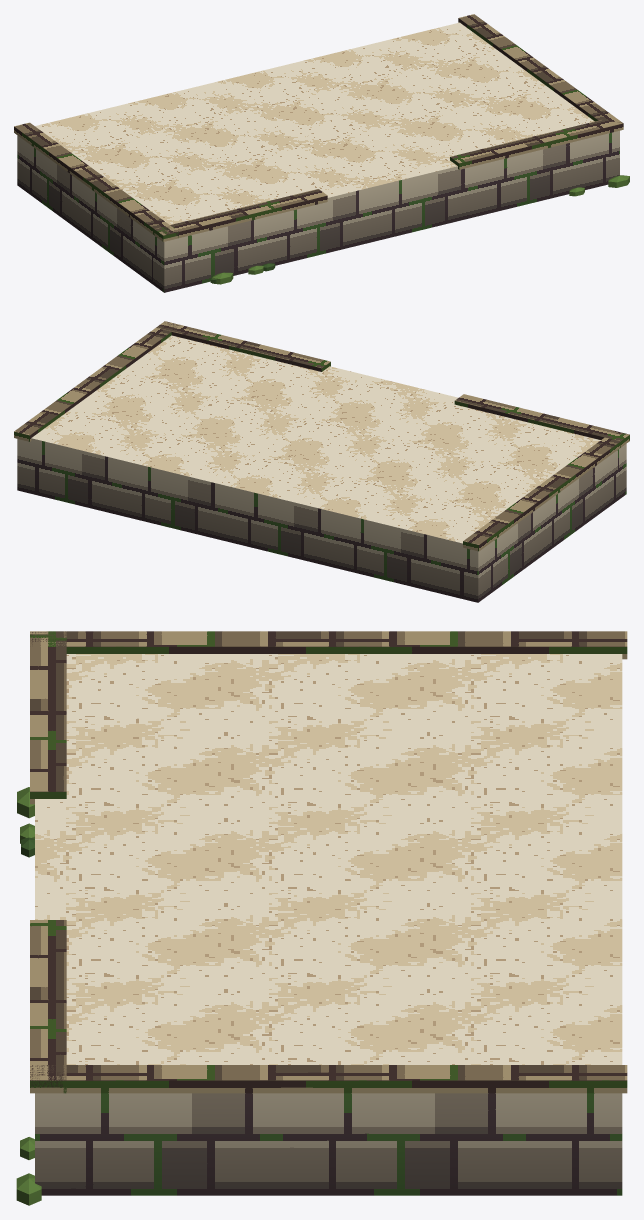
Rendered from scene_barrow_step.glb.
The picture shows the model from 3 angles, top to bottom: view 1: azimuth 30°, elevation 25°; view 2: azimuth 150°, elevation 25°; view 3: azimuth 270°, elevation 25°; orthographic projection. The views are drawn at different scales.
Visible parts, largest first — view 1: scene_barrow_step; view 2: scene_barrow_step; view 3: scene_barrow_step.
Boxes of the visible parts, x1,y1,x2,y2 form: scene_barrow_step: (14, 14, 629, 292); scene_barrow_step: (14, 321, 629, 602); scene_barrow_step: (16, 631, 627, 1205).
Size of the model in its own units: 10.64 by 1.36 by 6.03.
3 materials, 2 textured.
